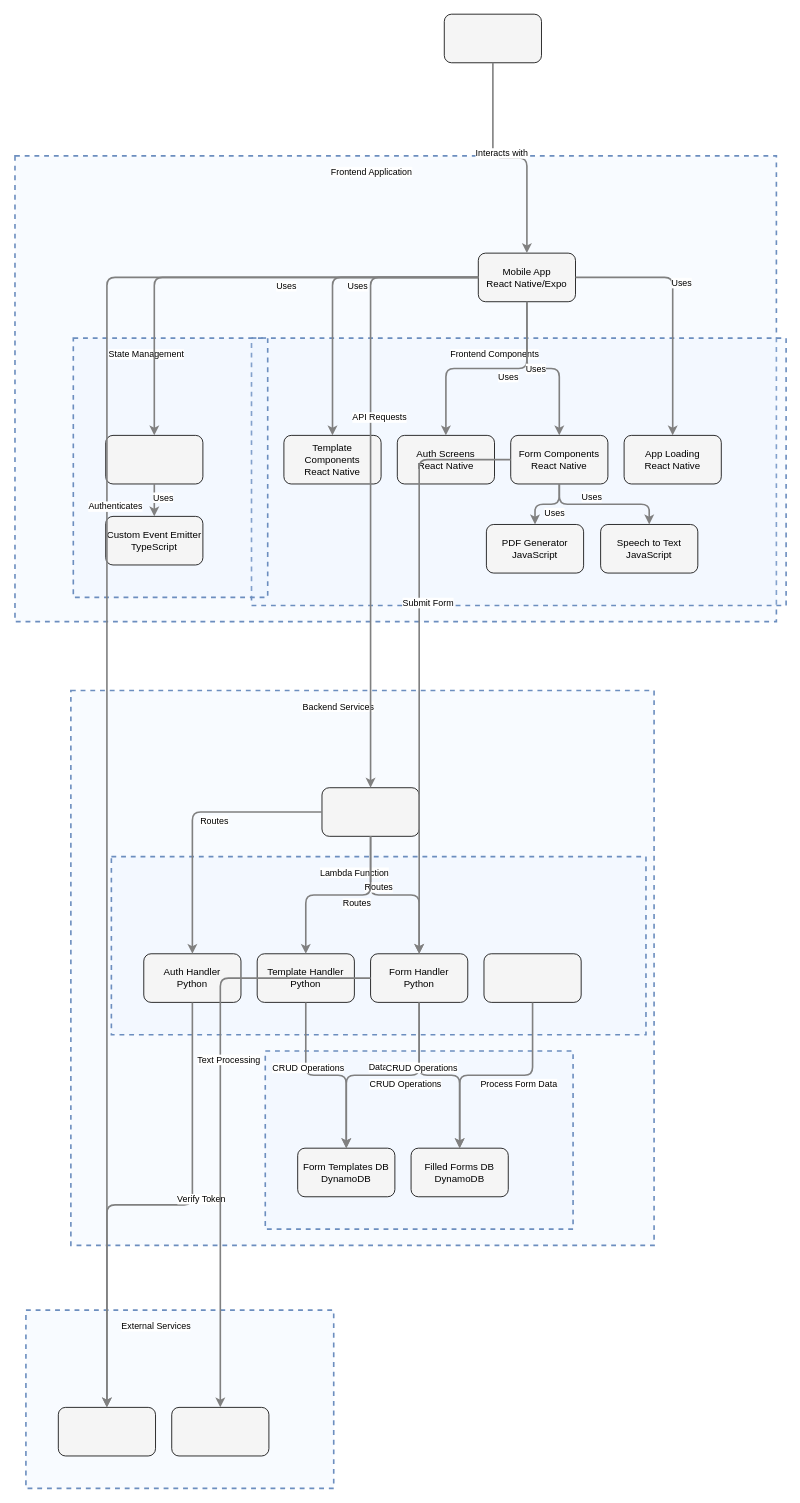
The diagram is 800 pixels wide and 1503 high, and some of its shapes have lost their labels. Each missing label, with the centre of its shape:
"API Gateway AWS API Gateway" belongs at pixel 370 811.
"Data Processor Python" belongs at pixel 532 977.
"Firebase Auth Firebase" belongs at pixel 107 1431.
"Form Data Context React Context" belongs at pixel 154 459.
"OpenAI Service GPT API" belongs at pixel 220 1431.
"User" belongs at pixel 492 38.
